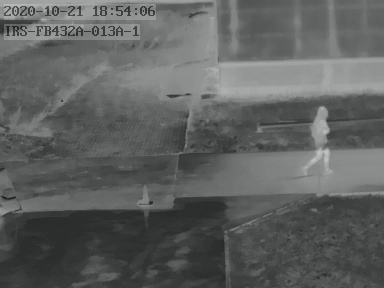person: (304, 105, 332, 173)
